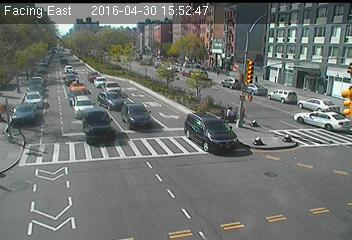neg: (59, 110, 77, 134), (171, 147, 189, 171), (125, 182, 143, 206), (215, 172, 232, 195), (88, 149, 105, 171), (310, 106, 321, 121), (324, 56, 333, 68), (273, 78, 281, 88)
pos: (224, 106, 238, 124), (252, 74, 260, 85), (216, 67, 222, 76)
